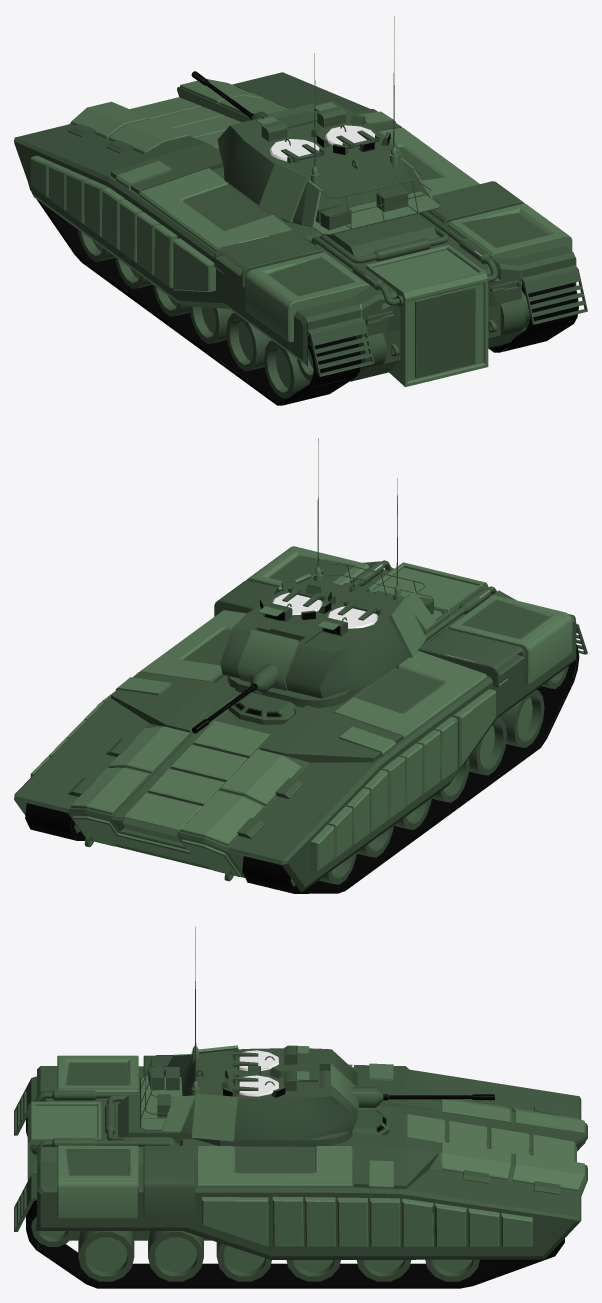
File: IFV.glb
3 renders of one model, top to bottom at view 1: azimuth 30°, elevation 25°; view 2: azimuth 150°, elevation 25°; view 3: azimuth 270°, elevation 25°, orthographic. The views are drawn at different scales.
Parts seen in each view (by area): view 1: IFV, Turret; view 2: IFV, Turret; view 3: IFV, Turret.
Part boxes in pixels (bbox=[...]): IFV: bbox=[14, 72, 587, 405]; Turret: bbox=[191, 16, 440, 234]; IFV: bbox=[14, 546, 587, 893]; Turret: bbox=[192, 438, 443, 733]; IFV: bbox=[14, 1055, 587, 1288]; Turret: bbox=[140, 927, 494, 1141].
Size of the model in its own units: 4.48 by 4.62 by 8.34.
Materials: 1 (1 with a texture image).
